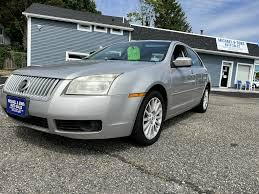Mercury: (17, 77, 34, 95)
